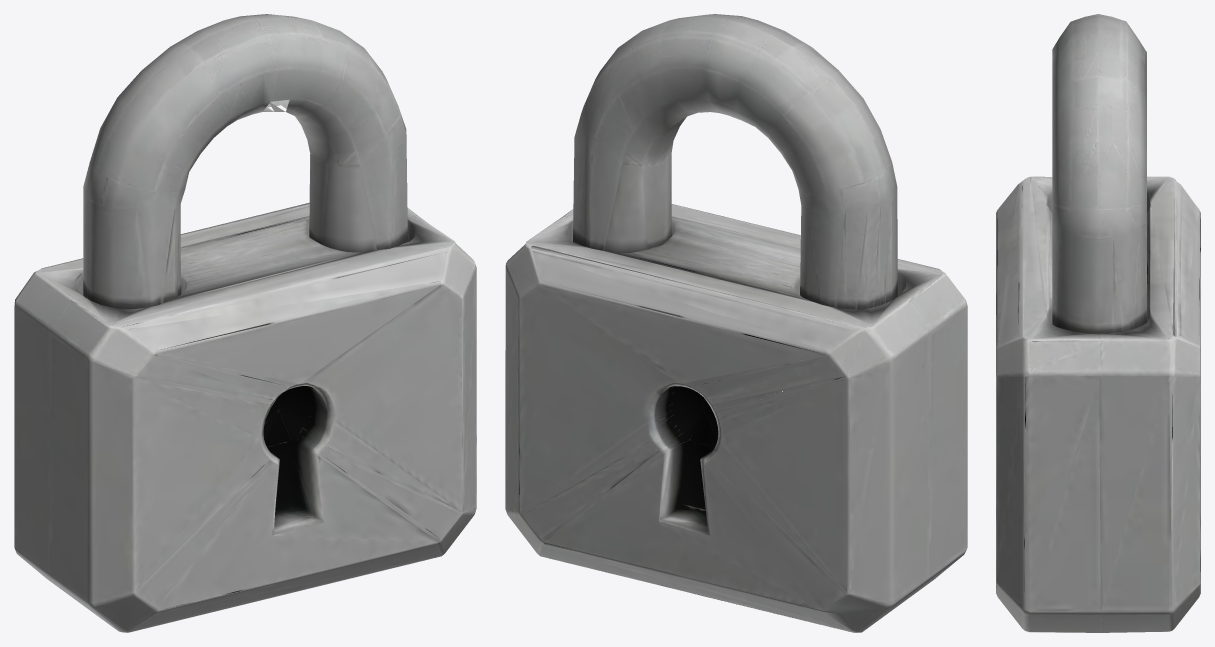
The model's file is lock_01.glb.
3 views of the same model, side by side, from view 1: azimuth 30°, elevation 25°; view 2: azimuth 150°, elevation 25°; view 3: azimuth 270°, elevation 25° (orthographic). The views are drawn at different scales.
Parts seen in each view (by area): view 1: geometry_0; view 2: geometry_0; view 3: geometry_0.
Boxes of the visible parts, bbox=[...] form: geometry_0: bbox=[14, 14, 476, 632]; geometry_0: bbox=[505, 14, 967, 632]; geometry_0: bbox=[996, 14, 1200, 632].
Bounding box in the file's own units: 0.7085 × 0.9517 × 0.3354.
1 material, 1 textured.
